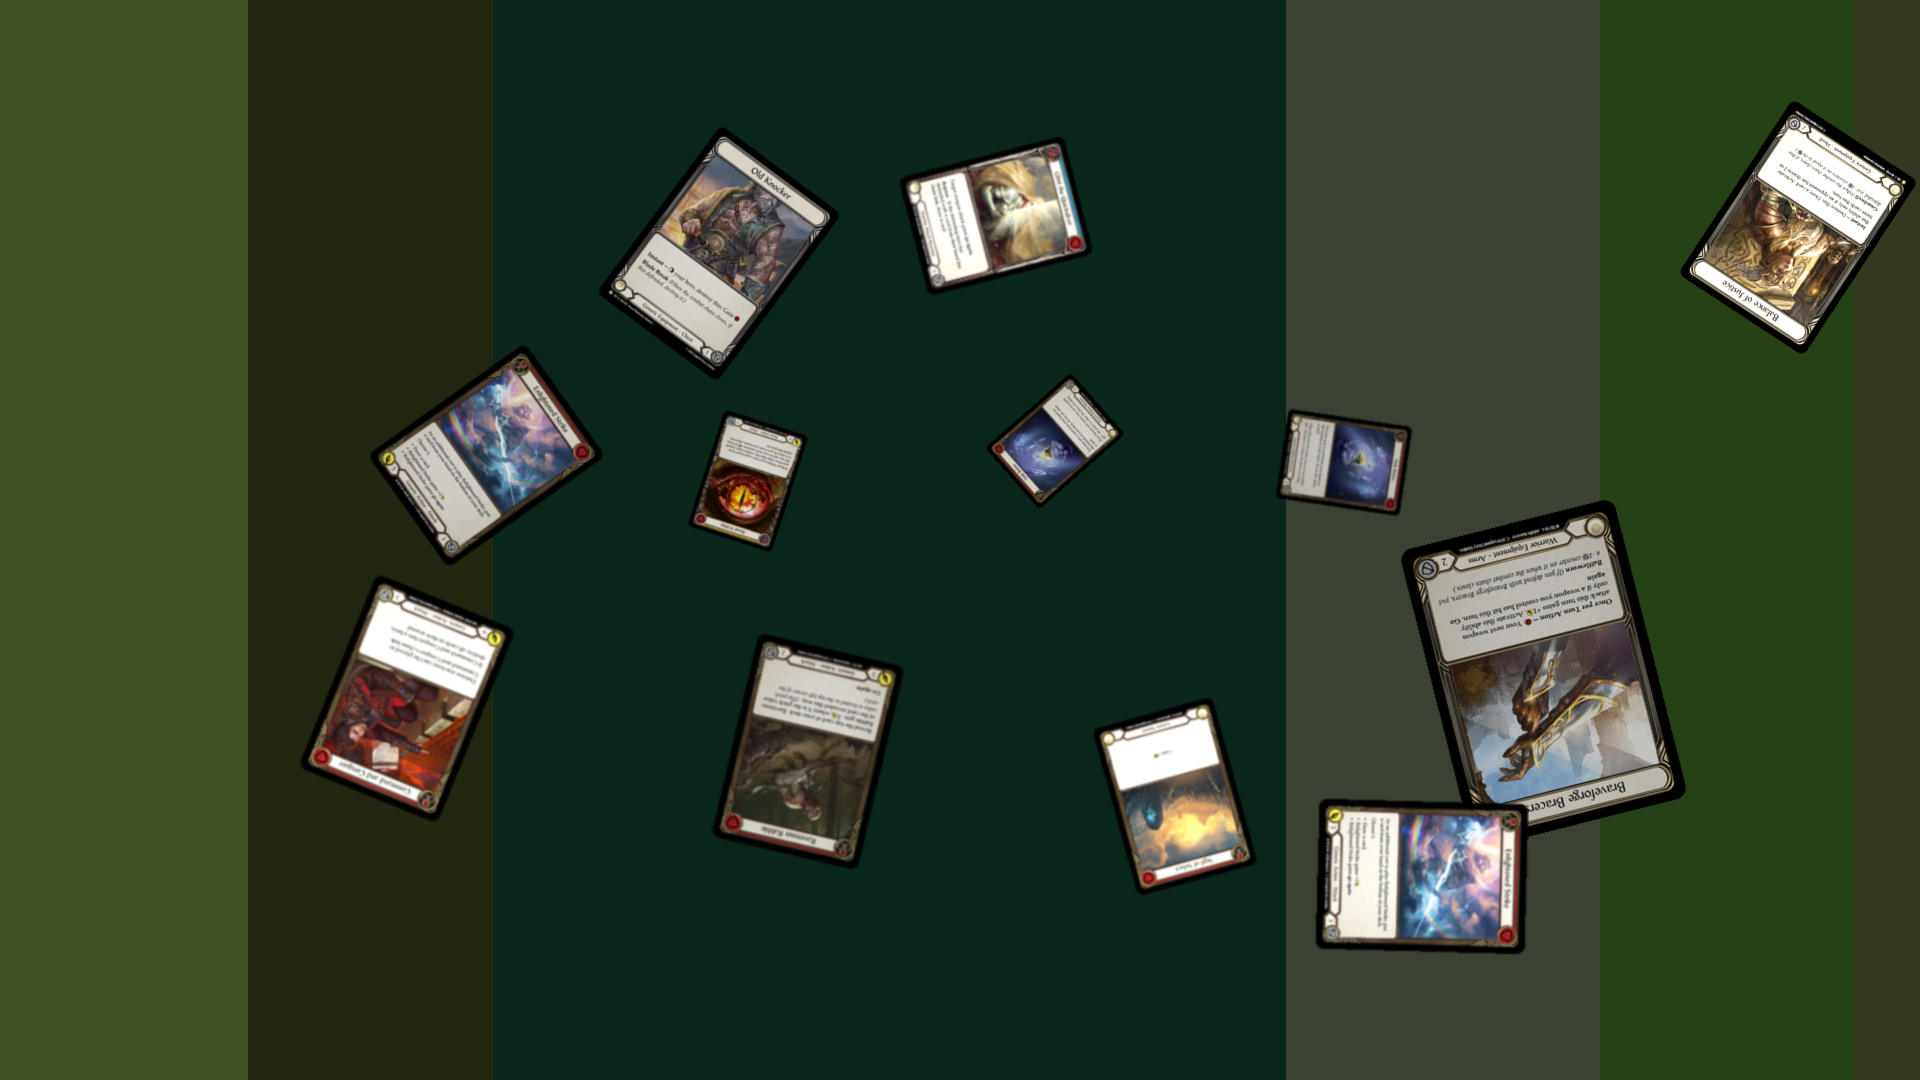Balance_of_Justice_HVY195: (1677, 98, 1919, 357)
Beast_Within_CRU007: (687, 409, 808, 553)
Braveforge_Bracers_WTR116: (1398, 497, 1689, 851)
Command_and_Conquer_ARC159: (298, 574, 516, 824)
Enlightened_Strike_WTR159: (367, 342, 607, 568), (1315, 798, 1528, 955)
Glint_the_Quicksilver_WTR118: (898, 135, 1095, 297)
Old_Knocker_SEA182: (596, 124, 843, 382)
Ravenous_Rabble_ARC191: (711, 632, 905, 872)
Sigil_of_Solace_WTR173: (1092, 696, 1258, 897)
Sink_Below_WTR215: (985, 372, 1125, 510), (1275, 407, 1414, 517)
